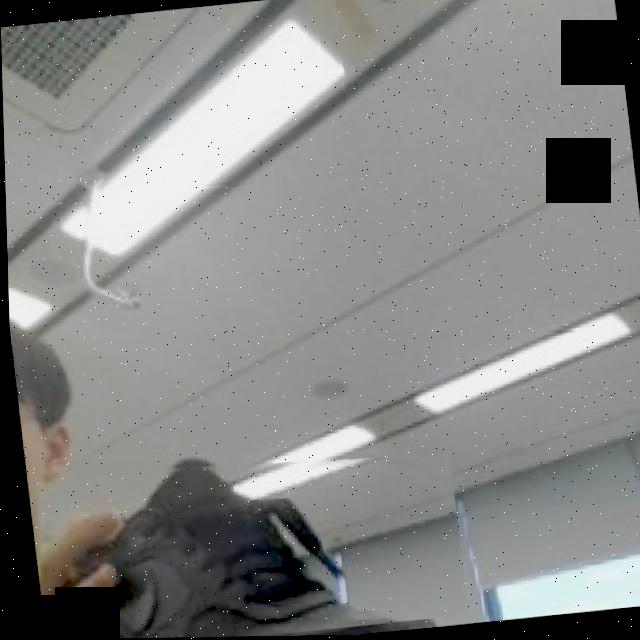shoe: (65, 435, 465, 639)
